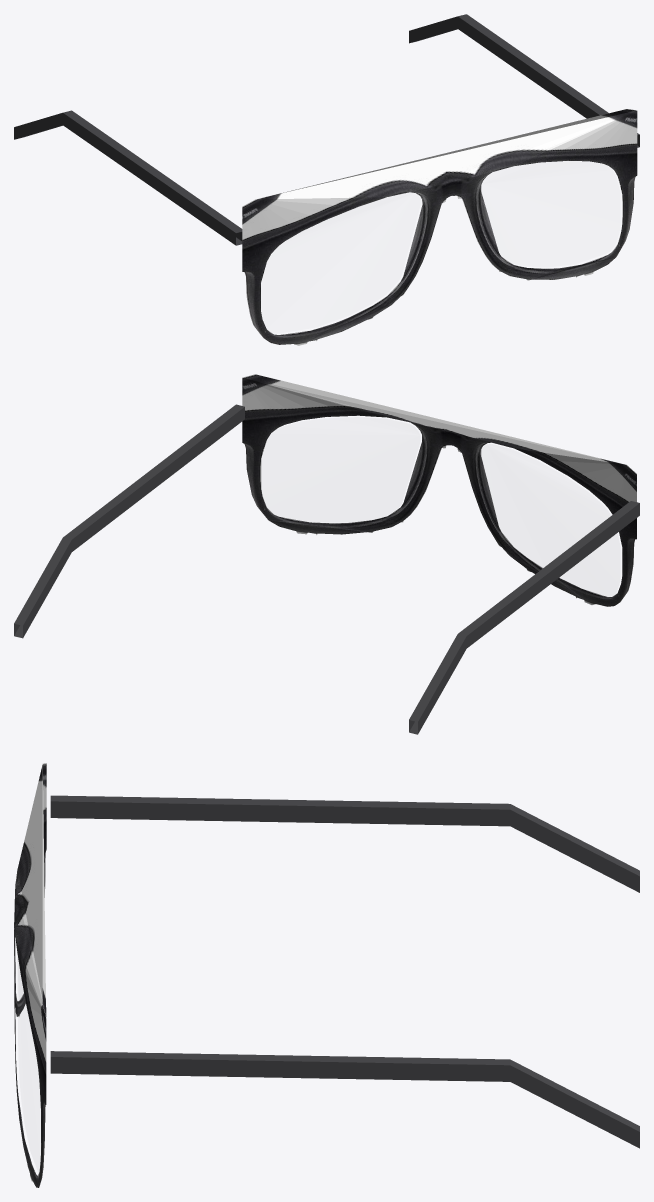
Rendered from gothamstyle-flex-matte-32_matte-black.glb.
3 views of the same model, one above another, from view 1: azimuth 30°, elevation 25°; view 2: azimuth 150°, elevation 25°; view 3: azimuth 270°, elevation 25° (orthographic). The views are drawn at different scales.
Visible parts, largest first — view 1: frame_front, temple_viewer_left, temple_viewer_right; view 2: frame_front, temple_viewer_right, temple_viewer_left; view 3: temple_viewer_left, temple_viewer_right, frame_front.
Boxes of the visible parts, x1=… form: frame_front: x1=242, y1=109, x2=637, y2=345; temple_viewer_left: x1=14, y1=110, x2=242, y2=245; temple_viewer_right: x1=409, y1=14, x2=639, y2=147; frame_front: x1=242, y1=374, x2=636, y2=606; temple_viewer_right: x1=14, y1=404, x2=244, y2=638; temple_viewer_left: x1=409, y1=501, x2=639, y2=734; temple_viewer_left: x1=50, y1=795, x2=639, y2=892; temple_viewer_right: x1=50, y1=1051, x2=639, y2=1148; frame_front: x1=14, y1=763, x2=46, y2=1187.
Bounding box in the file's own units: 0.1344 × 0.0486 × 0.136.
Materials: 3 (2 with a texture image).
